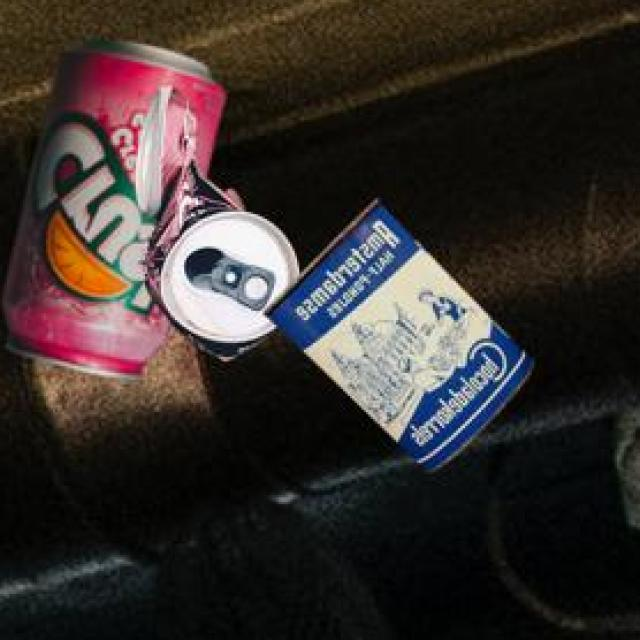logam: (6, 36, 229, 376), (268, 197, 538, 468), (142, 82, 303, 356)
